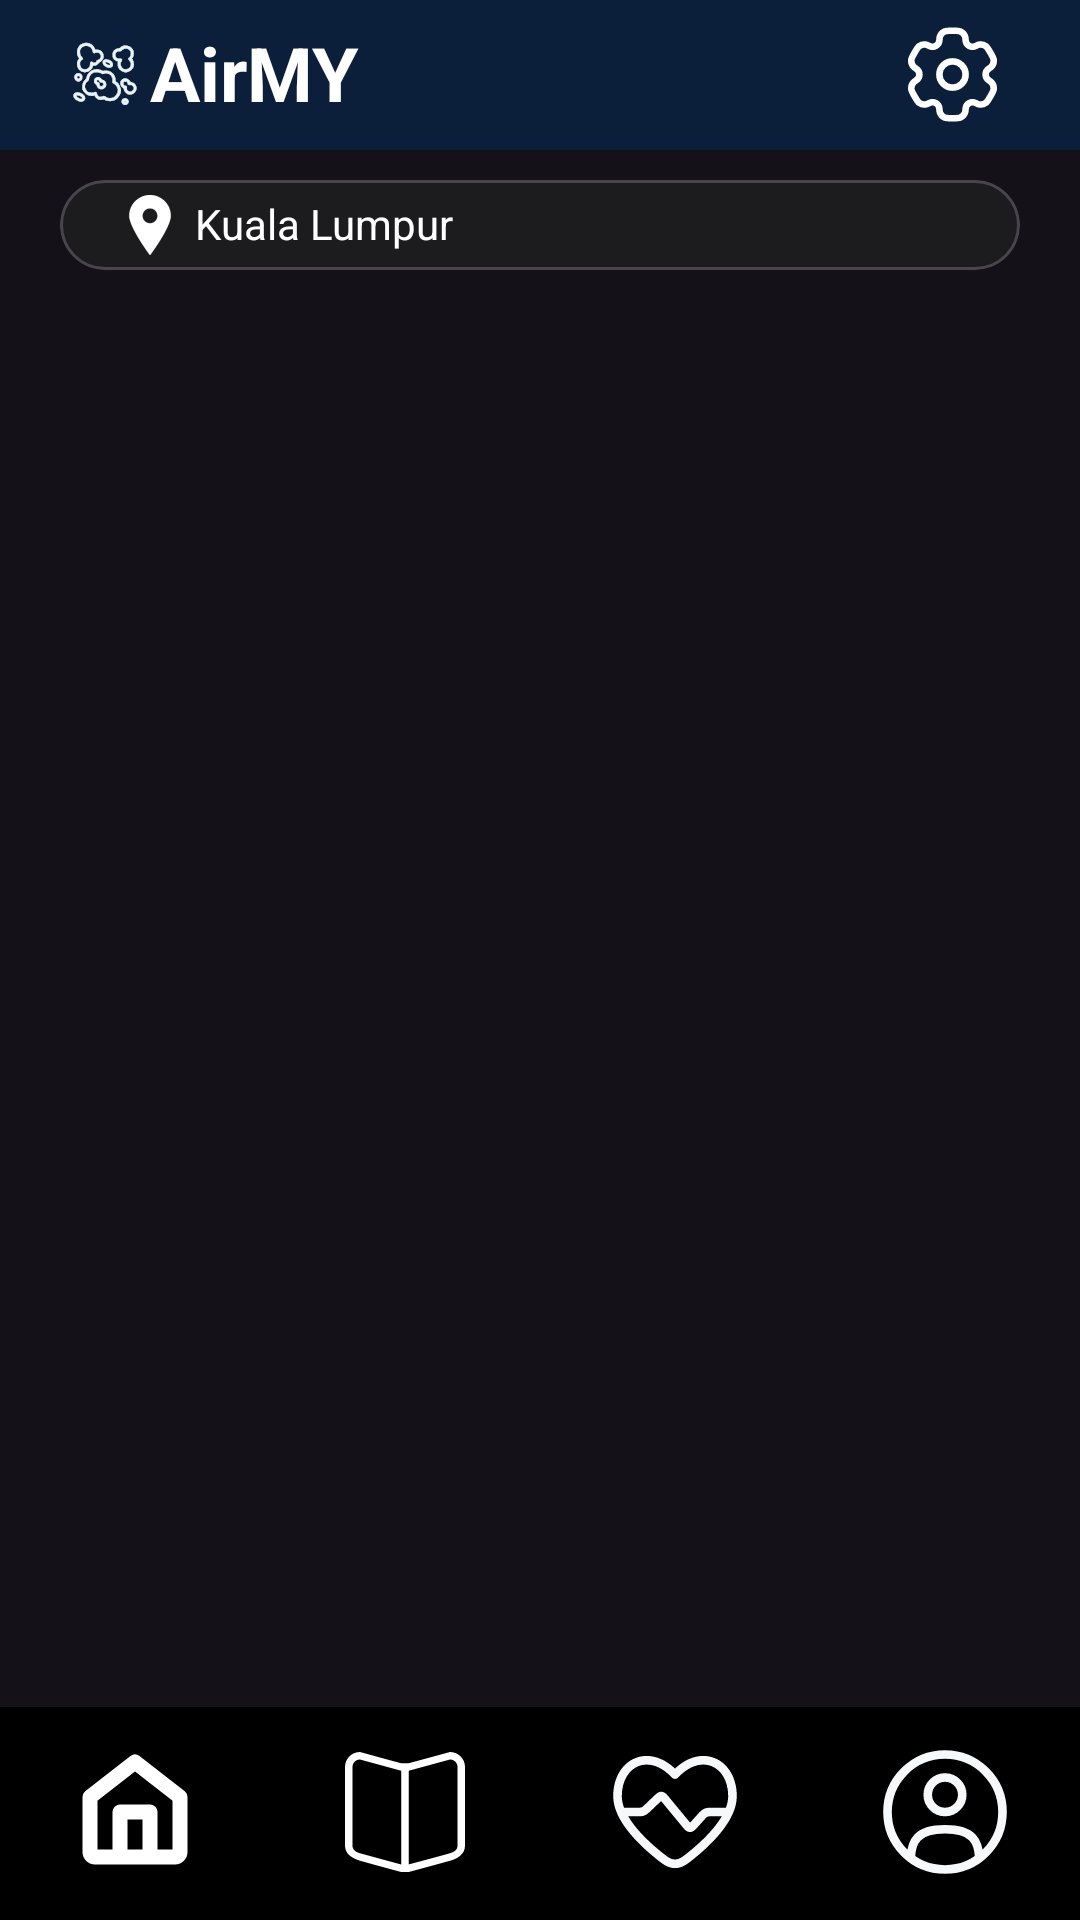

Point at icon controls on the screen. Image size 1080 × 1920, points as (x=x, y=y).
heart not: (x=675, y=1812)
house unclicked: (x=135, y=1809)
location: (x=150, y=225)
news unclicked: (x=405, y=1812)
settings: (x=952, y=74)
user not: (x=945, y=1812)
